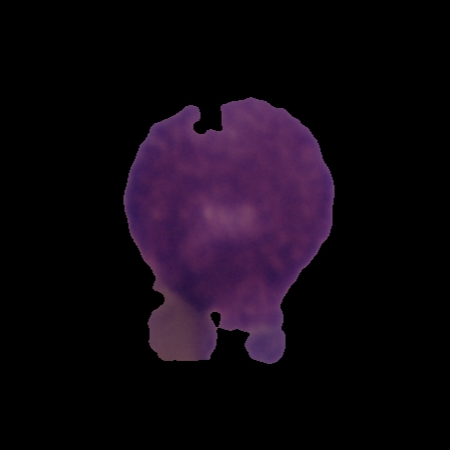HEM: (119, 94, 338, 366)
